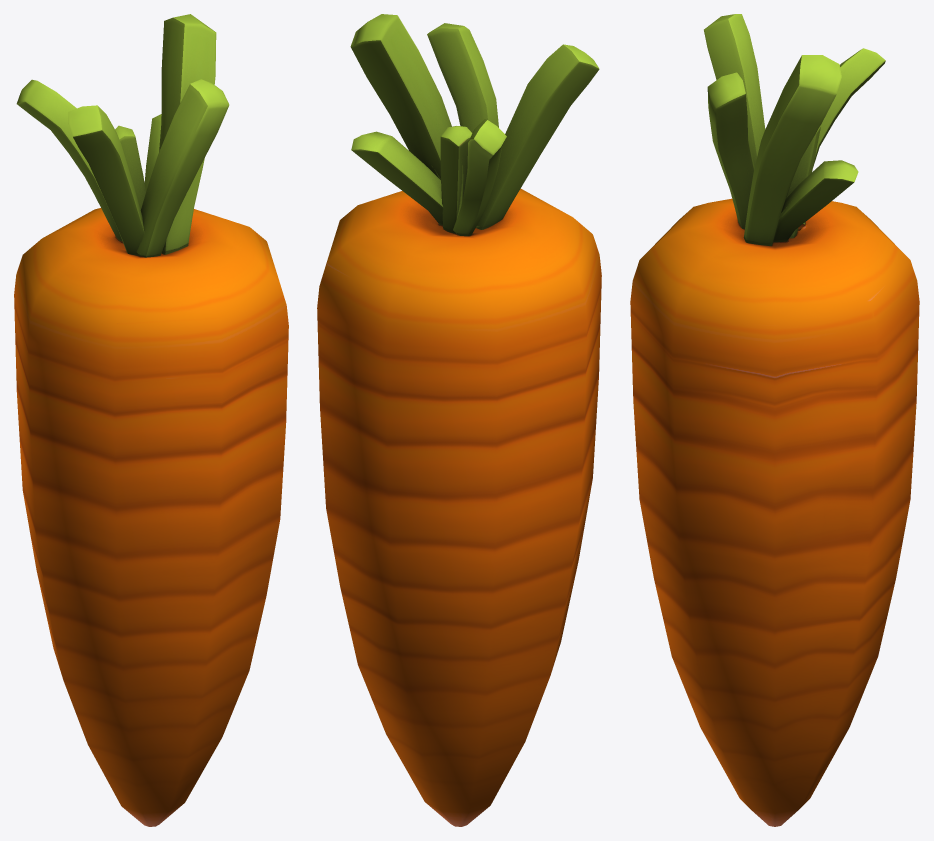
The picture shows the model from 3 angles, left to right: view 1: azimuth 30°, elevation 25°; view 2: azimuth 150°, elevation 25°; view 3: azimuth 270°, elevation 25°; orthographic projection. The views are drawn at different scales.
Parts seen in each view (by area): view 1: Carrot; view 2: Carrot; view 3: Carrot.
Part boxes in pixels (bbox=[...]): Carrot: bbox=[14, 14, 288, 826]; Carrot: bbox=[317, 14, 601, 826]; Carrot: bbox=[630, 14, 919, 826].
Bounding box in the file's own units: 0.0948 × 0.2861 × 0.0948.
1 material, 1 textured.
